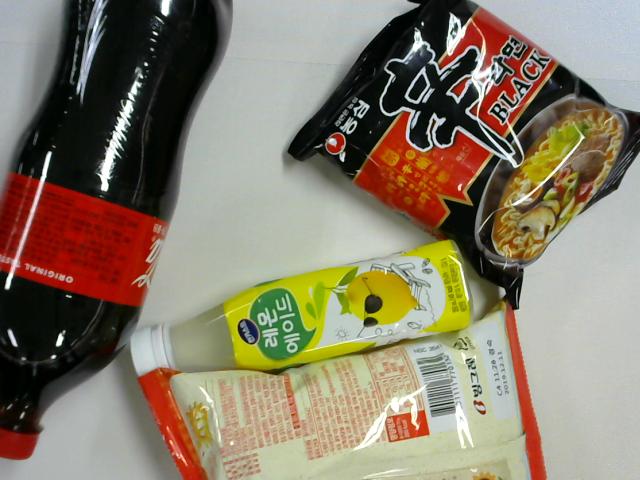Coca_Cola_1.5L: (1, 1, 234, 460)
Crabrang: (140, 301, 548, 480)
Sinramen_Black: (285, 1, 640, 312)
Sunkist_Lemonaid_Pet: (131, 239, 474, 381)
